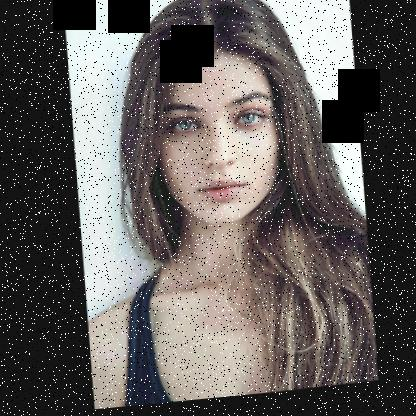Female: (148, 50, 281, 235)
